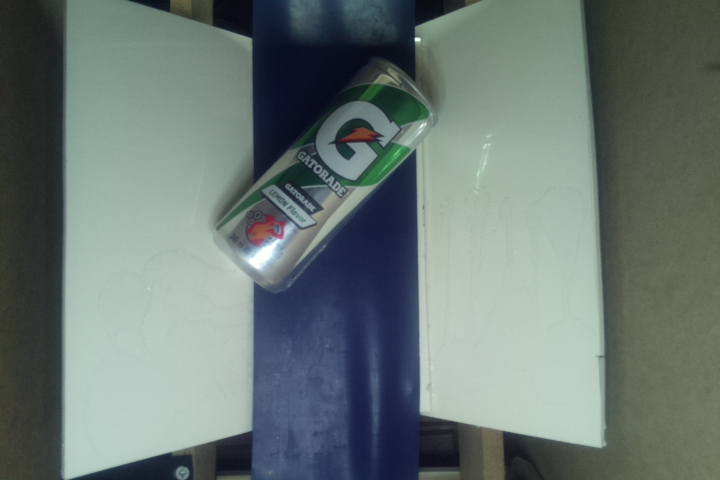can: (215, 52, 438, 291)
